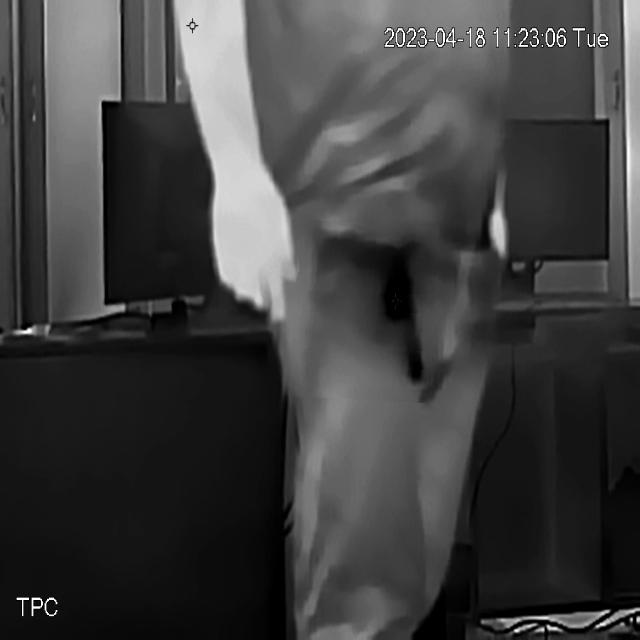Weapon: (293, 222, 437, 402)
